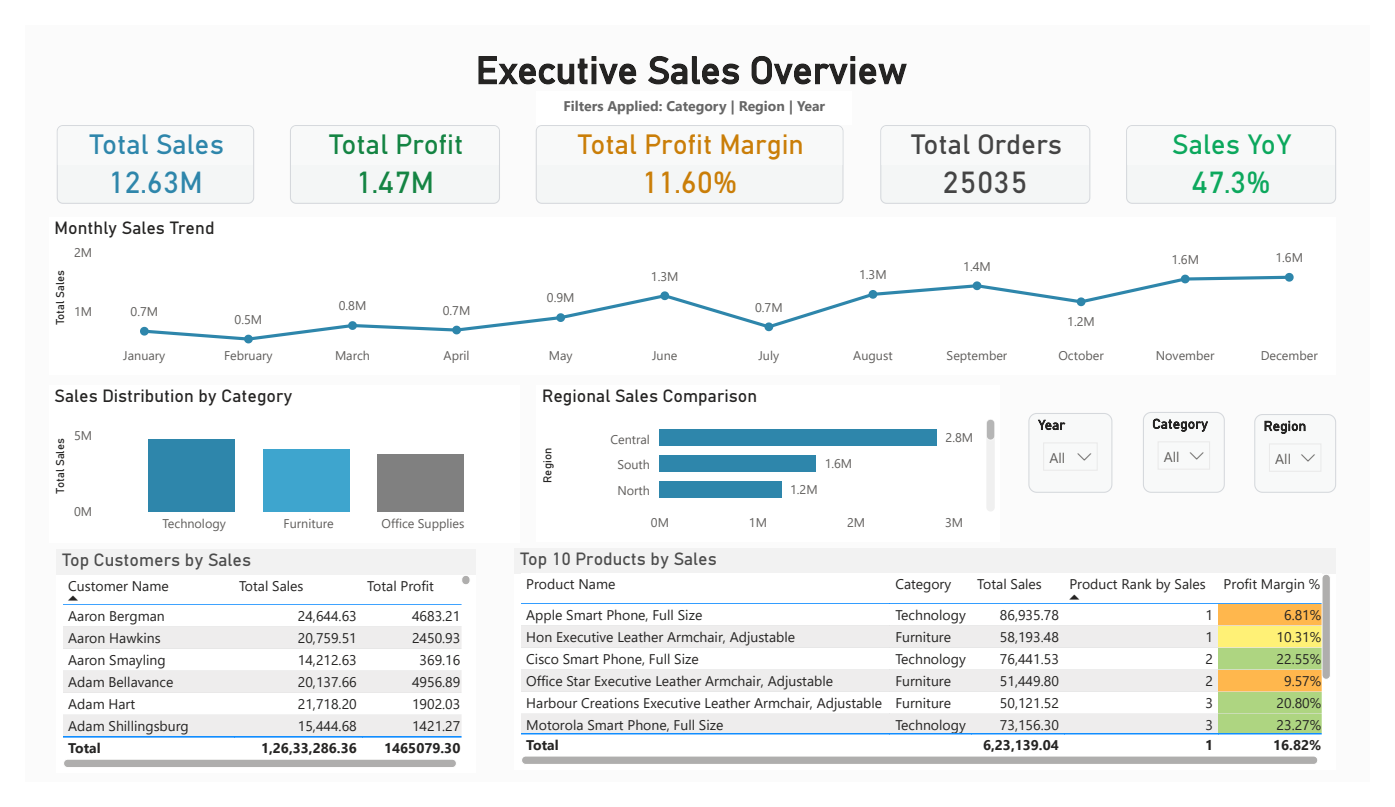

What the dashboard file says about the page in this screenshot:
{"tool":"powerbi","page":{"name":"Executive Summary","canvas":[1280,720],"ordinal":0},"visuals":[{"type":"shape","box":[22.5,182.5,1225,150],"z":0},{"type":"shape","box":[29.7,498.4,1218.8,210.2],"z":1000},{"type":"shape","box":[22.5,342.5,905,150],"z":2000},{"type":"card","title":"Total Sales","fields":{"Values":["_Measures.Total Sales"]},"box":[30,95,187.5,75],"z":3000},{"type":"card","title":"Total Profit","fields":{"Values":["_Measures.Total Profit"]},"box":[251.8,95.3,200,74.2],"z":4000},{"type":"card","title":"Total Orders","fields":{"Values":["_Measures.Total Orders"]},"box":[813.9,95.3,200,74.2],"z":5000},{"type":"card","title":"Total Profit Margin","fields":{"Values":["_Measures.Profit Margin %"]},"box":[486.3,95.3,293,74.2],"z":6000},{"type":"card","title":"Sales YoY","fields":{"Values":["_Key Measures.Sales YoY %"]},"box":[1048.4,95.3,200,74.2],"z":7000},{"type":"clusteredColumnChart","title":"Sales Distribution by Category ","fields":{"Category":["DimProduct.Category"],"Y":["_Measures.Total Sales"]},"box":[22.5,342.5,448.8,150],"z":8000},{"type":"clusteredBarChart","title":"Regional Sales Comparison","fields":{"Category":["DimGeography.Geography Hierarchy.Region"],"Y":["_Measures.Total Sales"]},"box":[486.7,343,441,149.2],"z":9000},{"type":"tableEx","title":"Top 10 Products by Sales","fields":{"Values":["DimProduct.Product Name","DimProduct.Category","_Measures.Total Sales","_Key Measures.Product Rank by Sales","_Measures.Profit Margin %"]},"box":[465.6,498.4,782.8,210.2],"z":10000},{"type":"slicer","title":"Year","fields":{"Values":["DimDate.Year"]},"box":[955.5,369.1,79.1,75.5],"z":11000},{"type":"slicer","title":"Category","fields":{"Values":["DimProduct.Category"]},"box":[1063.6,368.2,78.2,76.4],"z":12000},{"type":"slicer","title":"Region","fields":{"Values":["DimGeography.Region"]},"box":[1170,370,78.2,75.5],"z":13000},{"type":"tableEx","title":"Top Customers by Sales","fields":{"Values":["DimCustomer.Customer Name","_Measures.Total Sales","_Measures.Total Profit"]},"box":[30.2,498.6,398.7,213.1],"z":15000},{"type":"card","fields":{"Values":["DimCustomer.Dynamic Page Title"]},"box":[29.7,5.5,1218,68.8],"z":16000},{"type":"textbox","box":[362.9,62.1,155.7,32.9],"z":17000},{"type":"textbox","box":[486.7,63.3,300,32],"z":18000},{"type":"lineChart","title":"Monthly Sales Trend","fields":{"Category":["DimDate.Month Name"],"Y":["_Measures.Total Sales"]},"box":[22.5,182.5,1225,150],"z":19000}]}

Visuals, with their boxes in screenshot pixels (x1, y1, x2, y2), scaled from the page's 1280x720 canvas onto the 1395x807 screenshot:
shape: box(25, 205, 1360, 373)
shape: box(32, 559, 1361, 794)
shape: box(25, 384, 1011, 552)
"Total Sales" card: box(33, 106, 237, 191)
"Total Profit" card: box(274, 107, 492, 190)
"Total Orders" card: box(887, 107, 1105, 190)
"Total Profit Margin" card: box(530, 107, 849, 190)
"Sales YoY" card: box(1143, 107, 1361, 190)
"Sales Distribution by Category " clusteredColumnChart: box(25, 384, 514, 552)
"Regional Sales Comparison" clusteredBarChart: box(530, 384, 1011, 552)
"Top 10 Products by Sales" tableEx: box(507, 559, 1361, 794)
"Year" slicer: box(1041, 414, 1128, 498)
"Category" slicer: box(1159, 413, 1244, 498)
"Region" slicer: box(1275, 415, 1360, 499)
"Top Customers by Sales" tableEx: box(33, 559, 467, 798)
card - DimCustomer.Dynamic Page Title: box(32, 6, 1360, 83)
textbox: box(396, 70, 565, 106)
textbox: box(530, 71, 857, 107)
"Monthly Sales Trend" lineChart: box(25, 205, 1360, 373)
